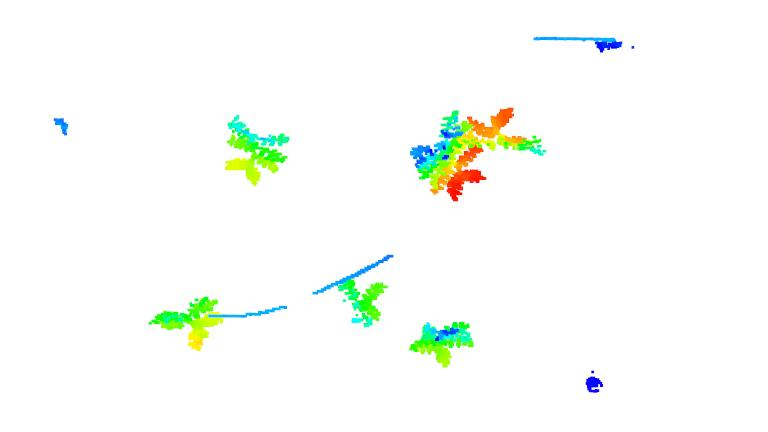chickpea: (407, 109, 486, 202), (222, 114, 291, 188), (462, 105, 546, 159), (146, 297, 224, 350), (407, 321, 476, 369), (337, 273, 386, 330)
